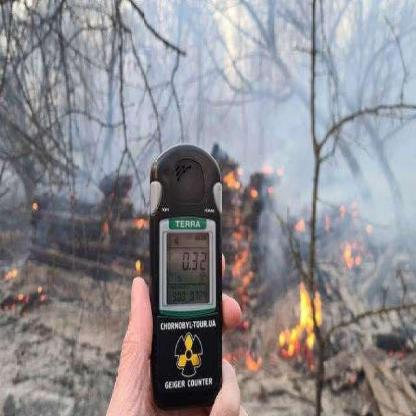fire: (222, 213, 265, 371), (293, 195, 372, 270), (273, 277, 326, 363), (221, 158, 287, 198), (3, 264, 48, 316), (132, 210, 151, 233), (132, 256, 142, 274), (32, 193, 38, 214)
other: (172, 334, 203, 377)
